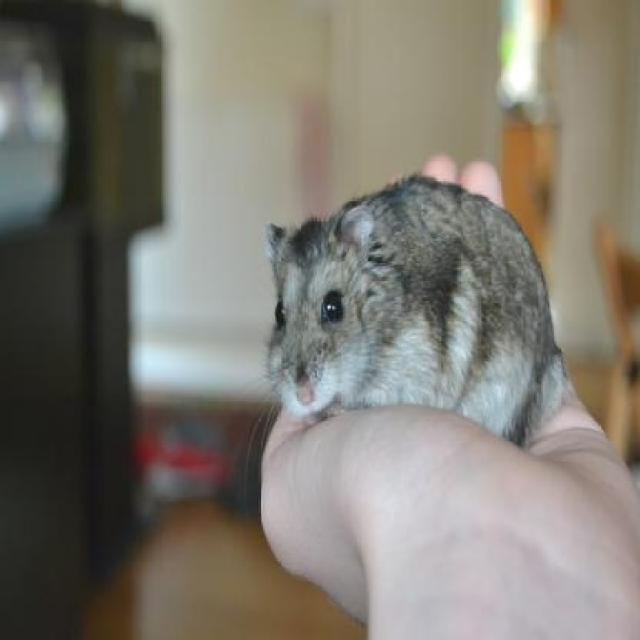Mouse: (262, 160, 564, 472)
